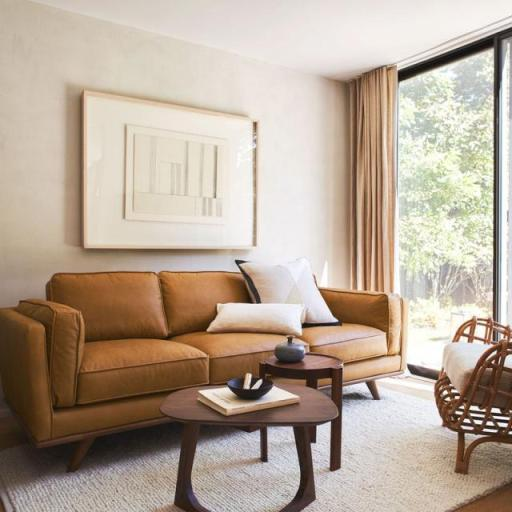sofa: (1, 235, 419, 467)
